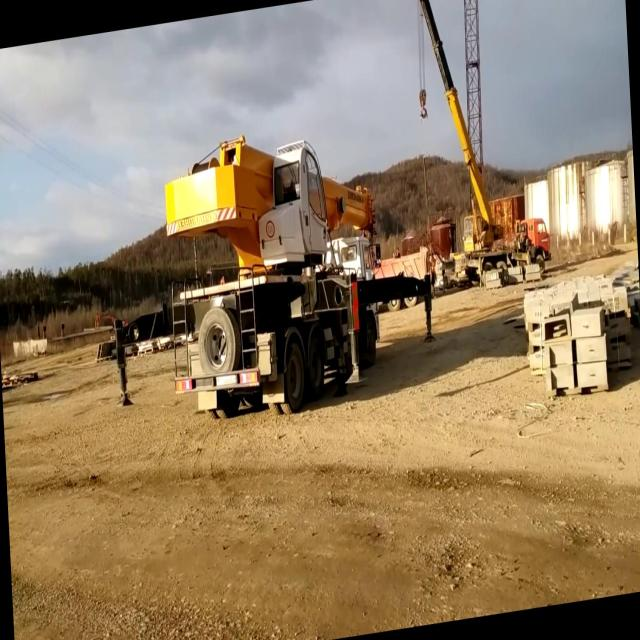crane: (159, 105, 439, 432), (412, 0, 554, 295)
